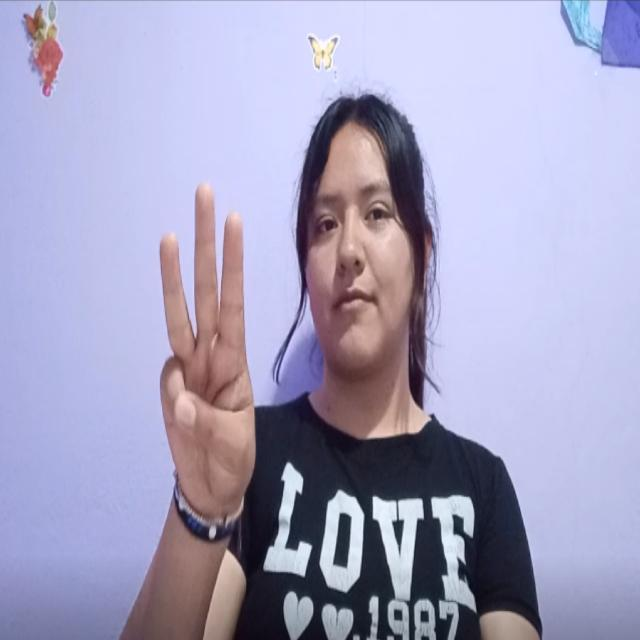W: (129, 175, 276, 529)
